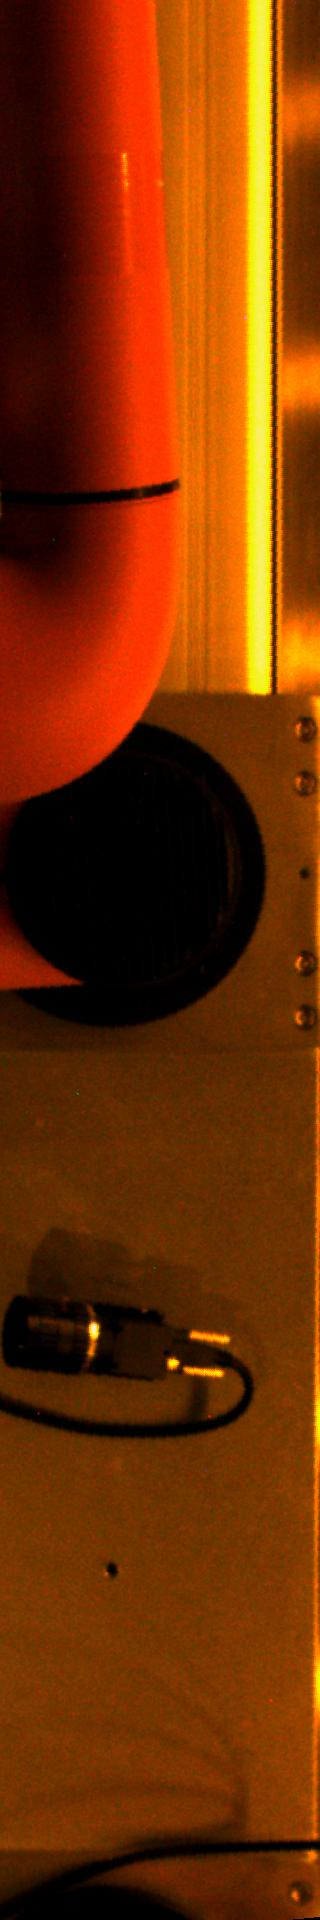keyPoint_2: (97, 1555, 128, 1584)
